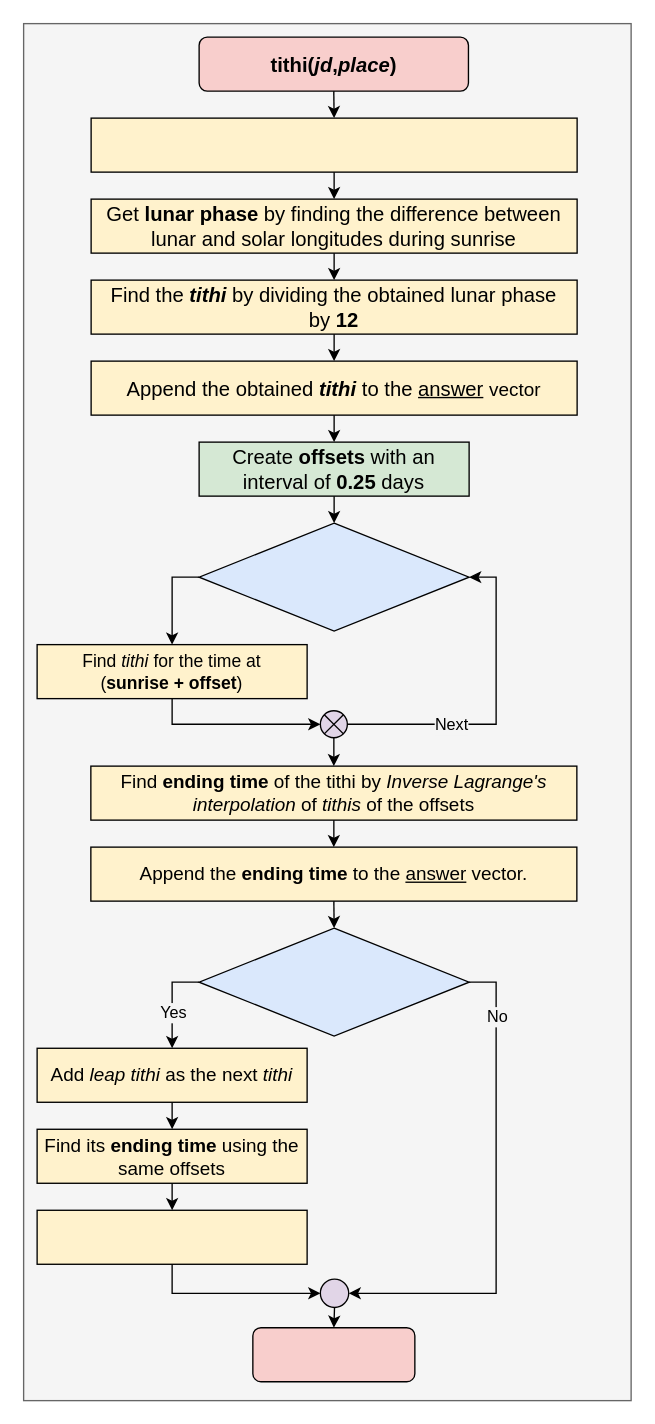
This 655x1424 diagram has some shape labels left out. The shapes that lost their labels are listed below. From the top down, each one's box as (x1, y1, x2, y2) in pixels, then its label:
(90, 117, 577, 172): Find sunrise time for the given place
(198, 522, 469, 631): Loop through the offsets
(198, 927, 469, 1036): If tithi is skipped
(36, 1209, 307, 1264): Append that to the answer vector
(252, 1326, 415, 1382): Return answer
